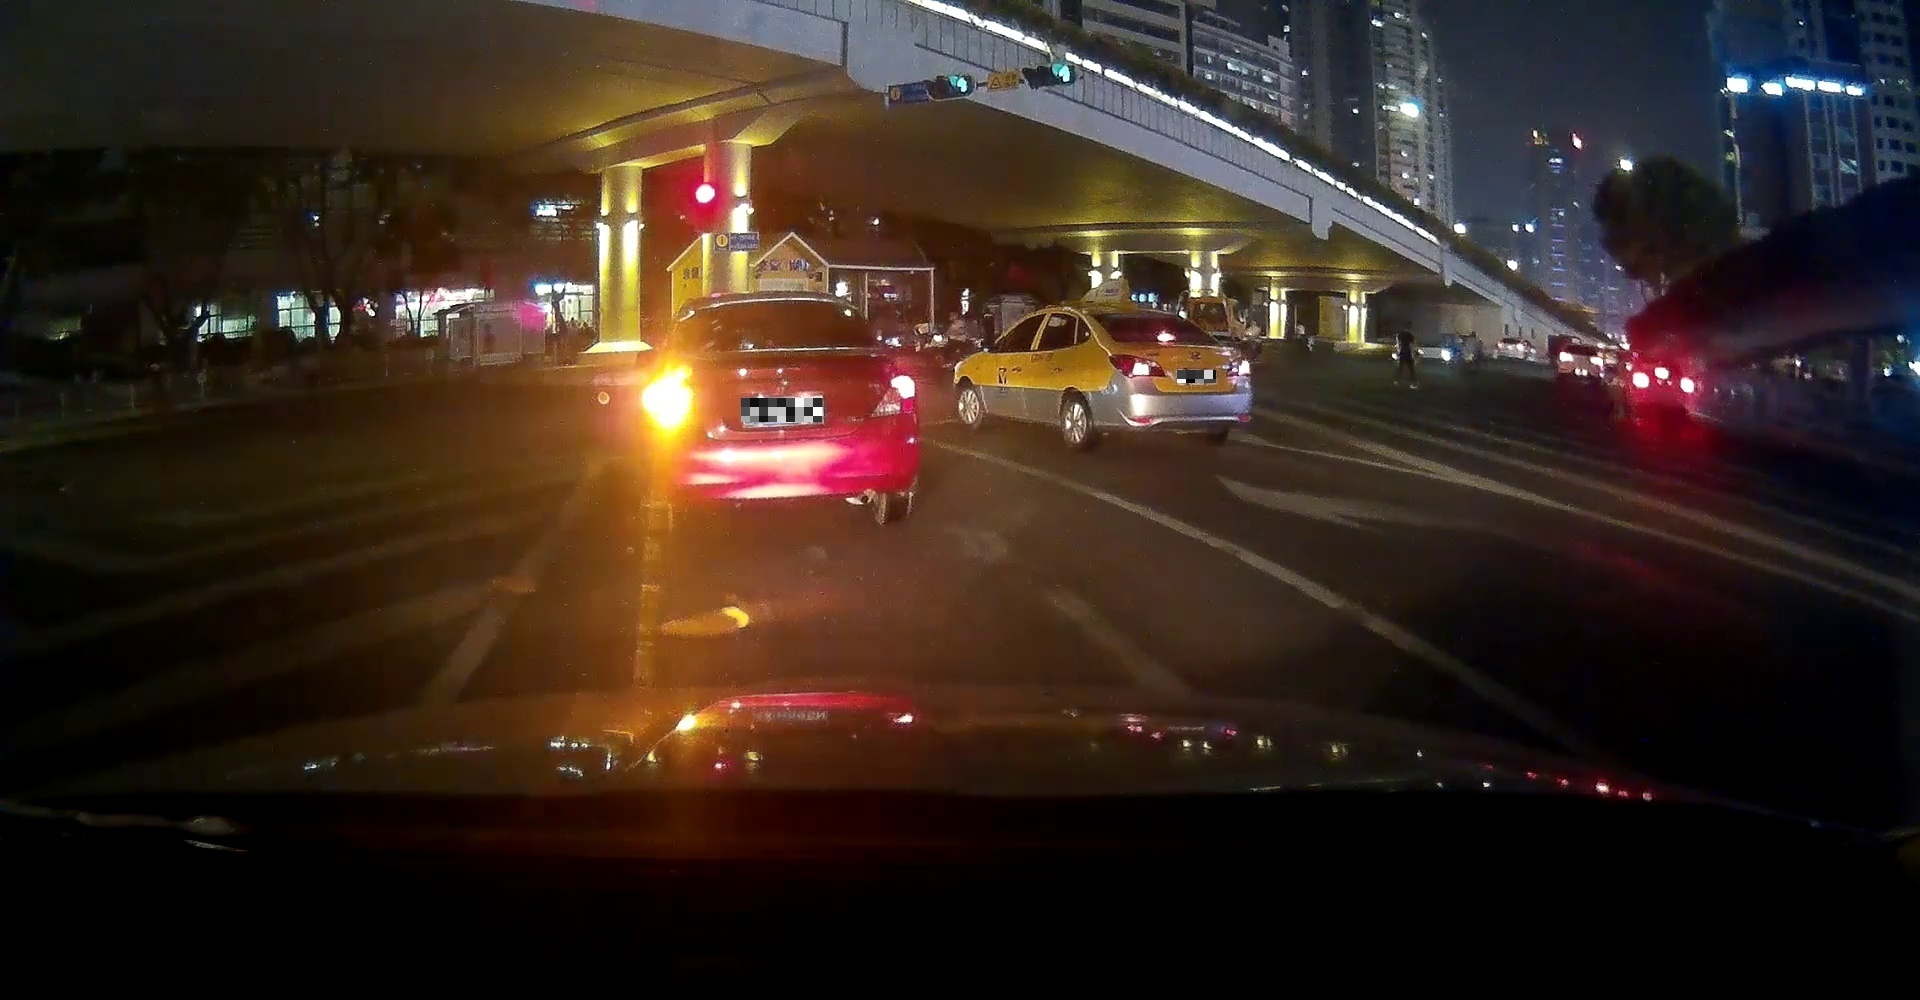L_light: (643, 372, 692, 429), (1109, 353, 1168, 377)
R_light: (869, 376, 917, 418), (1225, 355, 1251, 377)
T_light: (759, 301, 797, 308), (1157, 332, 1176, 343)
night-brake: (1082, 305, 1253, 445)
night-left: (636, 291, 919, 532)
plate_1: (742, 398, 823, 423)
plate_2: (1177, 371, 1217, 383)
